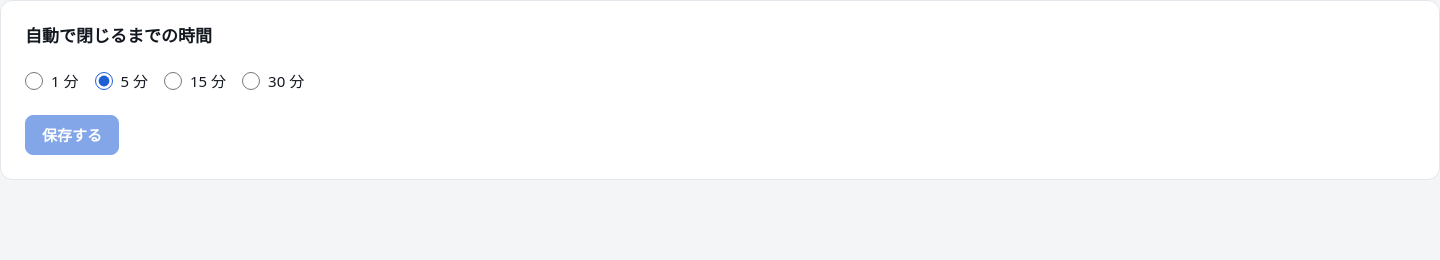
it: 自動で閉じるまでの時間 › 選んで保存すると、保存した金庫を渡し、済んだことを知らせる
The width and height of the screenshot is (1440, 260).
Click the radio button labelled "15 分" at (173,81), box [164,72,182,90]
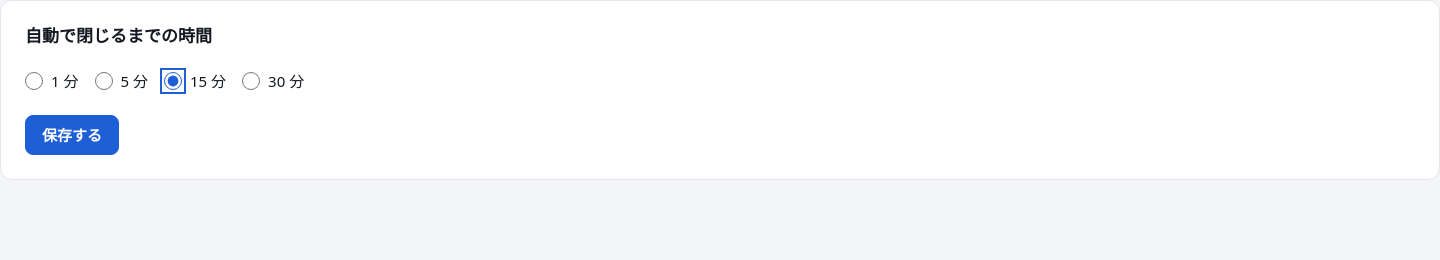
Click the button "保存する" at (72,135), box [25,115,119,155]
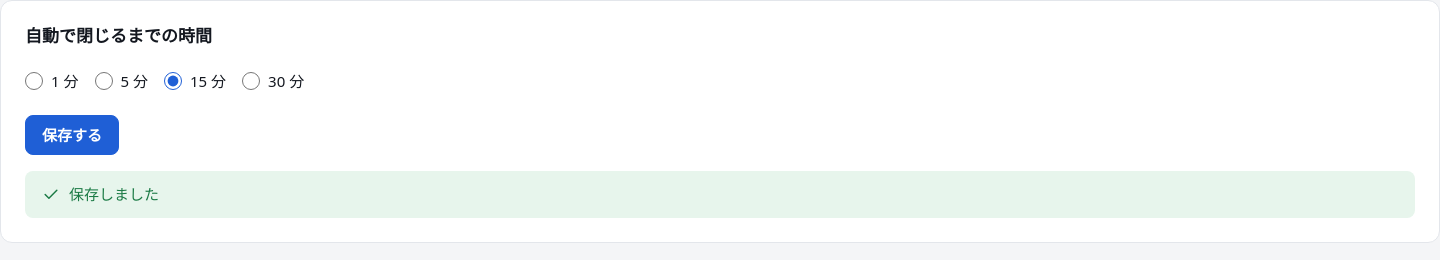
Check: the message reads "保存しました", box [69,184,159,204]
